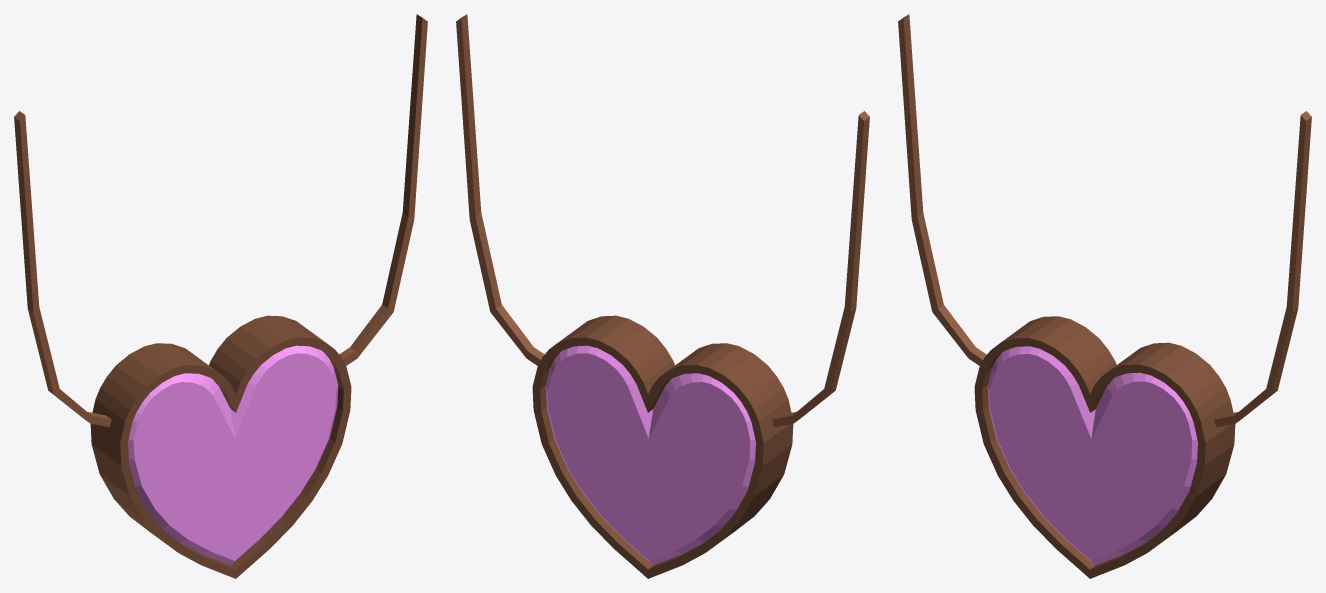
The model's file is life_pendant.glb.
3 views of the same model, side by side, from view 1: azimuth 30°, elevation 25°; view 2: azimuth 150°, elevation 25°; view 3: azimuth 330°, elevation 25° (orthographic).
Visible parts, largest first — view 1: LifePendant; view 2: LifePendant; view 3: LifePendant.
Part boxes in pixels (box(x1,y1,x2,y2)): LifePendant: box(14, 14, 427, 578); LifePendant: box(456, 14, 869, 578); LifePendant: box(898, 14, 1311, 578).
Size of the model in its own units: 0.7909 by 0.9327 by 0.1.
Materials: 1 (1 with a texture image).
